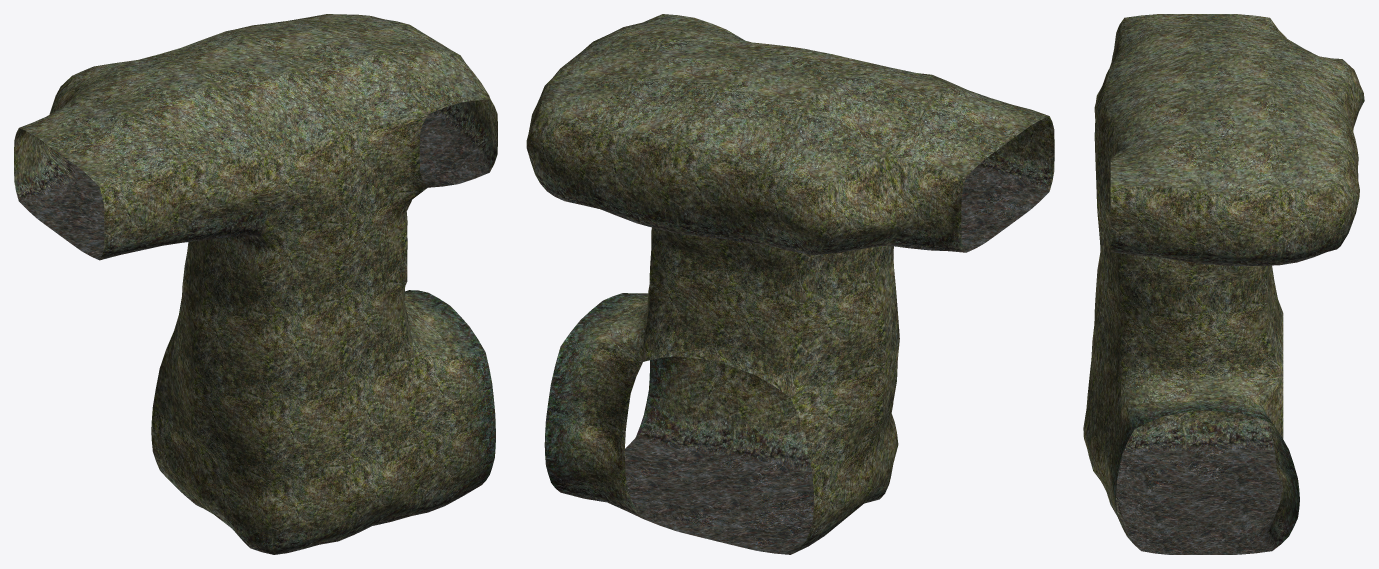
File: thm_all_cave_s03_damprock_r20_r20.fbx
3 renders of one model, left to right at view 1: azimuth 30°, elevation 25°; view 2: azimuth 150°, elevation 25°; view 3: azimuth 270°, elevation 25°, orthographic. The views are drawn at different scales.
Parts seen in each view (by area): view 1: mesh_node; view 2: mesh_node; view 3: mesh_node.
Boxes of the visible parts, left/top/right/bottom form: mesh_node: left=14, top=14, right=497, bottom=554; mesh_node: left=526, top=14, right=1054, bottom=554; mesh_node: left=1083, top=14, right=1364, bottom=554.
Size of the model in its own units: 43.02 by 43.8 by 27.66.
